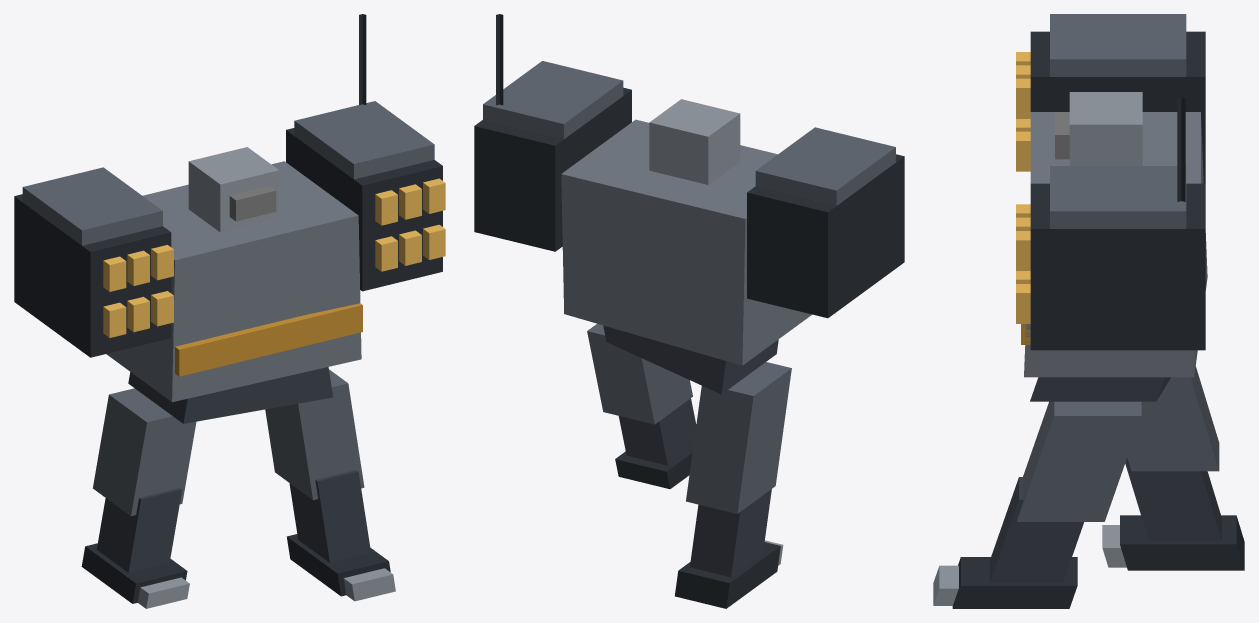
File: javelin-walk-2.obj
3 views of the same model, side by side, from view 1: azimuth 30°, elevation 25°; view 2: azimuth 150°, elevation 25°; view 3: azimuth 270°, elevation 25° (orthographic). The views are drawn at different scales.
Parts seen in each view (by area): view 1: javelin-walk-2; view 2: javelin-walk-2; view 3: javelin-walk-2.
Part boxes in pixels (x1,y1,x2,y2): javelin-walk-2: (14,14,445,608); javelin-walk-2: (474,14,904,608); javelin-walk-2: (933,14,1244,608).
Bounding box in the file's own units: 1.92 × 2.65 × 1.28.
